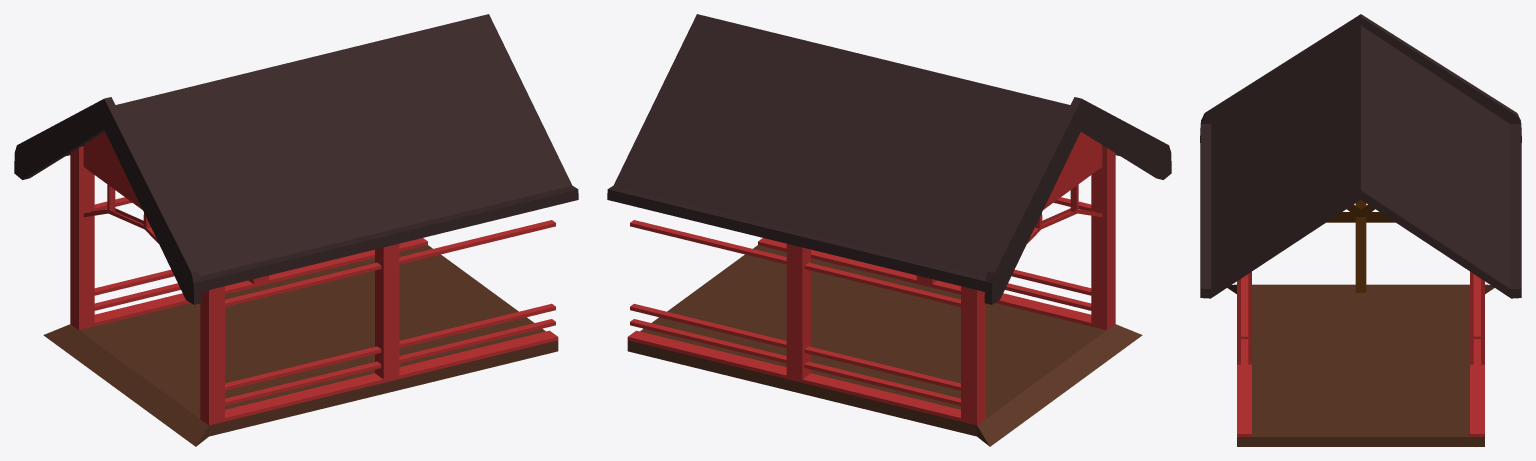
File: Ponte-COMEÇO.fbx
3 renders of one model, left to right at view 1: azimuth 30°, elevation 25°; view 2: azimuth 150°, elevation 25°; view 3: azimuth 270°, elevation 25°, orthographic. The views are drawn at different scales.
Visible parts, largest first — view 1: bridge entrance base; view 2: bridge entrance base; view 3: bridge entrance base.
Boxes of the visible parts, x1,y1,x2,y2 form: bridge entrance base: (14,14,578,446); bridge entrance base: (607,14,1171,446); bridge entrance base: (1200,14,1521,446).
Size of the model in its own units: 1916 by 1410 by 1551.
Materials: 1 (1 with a texture image).
